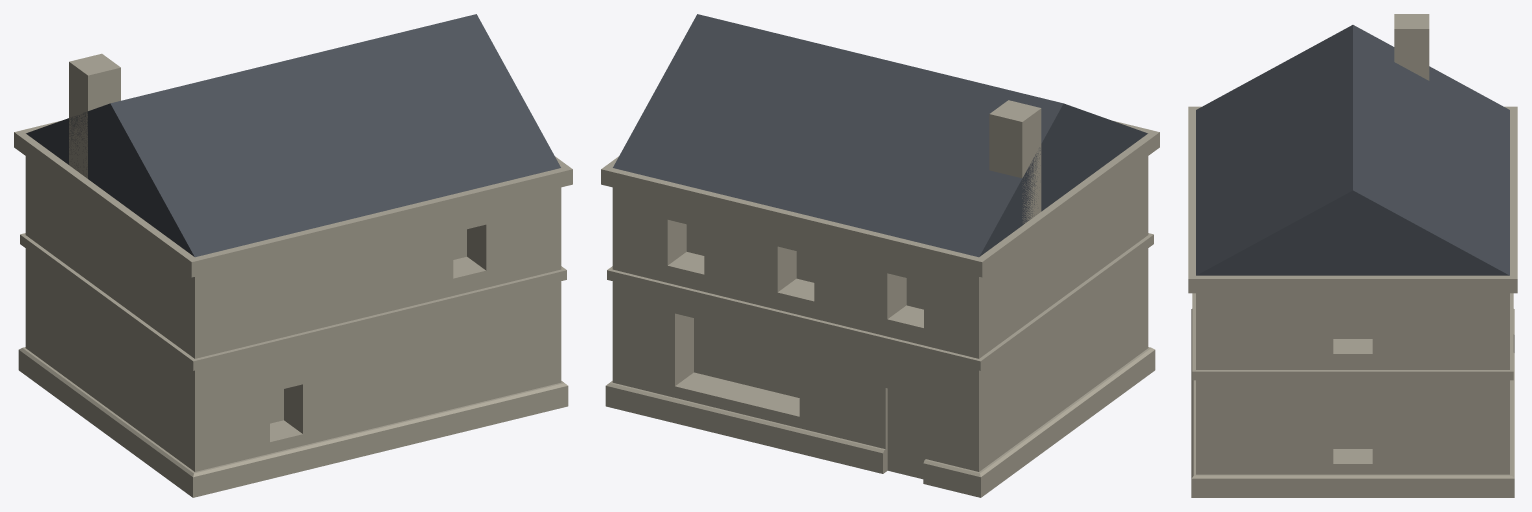
The picture shows the model from 3 angles, left to right: view 1: azimuth 30°, elevation 25°; view 2: azimuth 150°, elevation 25°; view 3: azimuth 270°, elevation 25°; orthographic projection. The views are drawn at different scales.
Parts seen in each view (by area): view 1: body_stone, roof_slate, trim_stone, roof_stone; view 2: body_stone, roof_slate, trim_stone, roof_stone; view 3: roof_slate, body_stone, trim_stone, roof_stone.
Part boxes in pixels (box(x1,y1,x2,y2)): body_stone: box(25, 66, 561, 471); roof_slate: box(26, 14, 560, 257); trim_stone: box(14, 121, 572, 497); roof_stone: box(69, 53, 120, 79); body_stone: box(612, 112, 1148, 479); roof_slate: box(613, 14, 1147, 257); trim_stone: box(601, 121, 1159, 497); roof_stone: box(989, 100, 1041, 125); roof_slate: box(1196, 25, 1509, 275); body_stone: box(1196, 32, 1509, 474); trim_stone: box(1188, 106, 1517, 497); roof_stone: box(1394, 14, 1429, 32).
Size of what is drawn, in the model's own units: 10.4 by 8.9 by 8.4.
